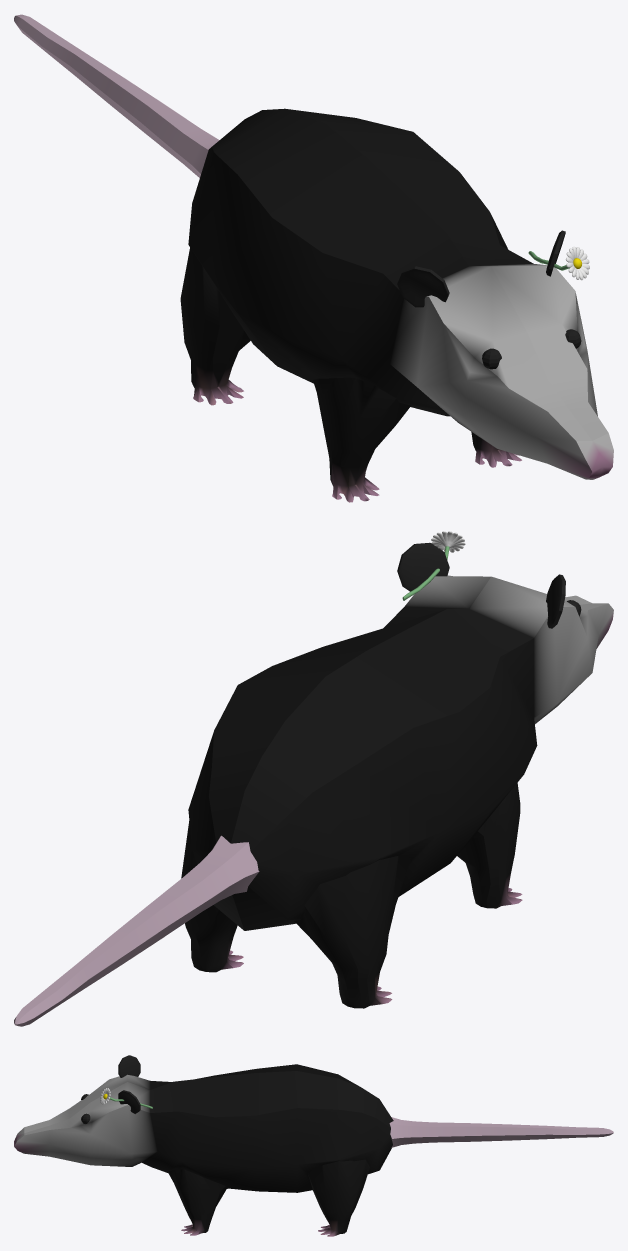
The model's file is OpossumStatic.fbx.
3 views of the same model, one above another, from view 1: azimuth 30°, elevation 25°; view 2: azimuth 150°, elevation 25°; view 3: azimuth 270°, elevation 25° (orthographic). The views are drawn at different scales.
Parts seen in each view (by area): view 1: PossumBody (×2), PossumTail, PossumEar_L; view 2: PossumBody (×2), PossumTail, PossumEar_L (×2); view 3: PossumBody (×2), PossumTail, PossumEar_L (×2).
Boxes of the visible parts, left/top/right/bottom form: PossumBody (×2): left=180, top=108, right=613, bottom=502; PossumTail: left=14, top=14, right=219, bottom=177; PossumEar_L: left=397, top=266, right=449, bottom=307; PossumBody (×2): left=181, top=575, right=613, bottom=1008; PossumTail: left=14, top=835, right=259, bottom=1026; PossumEar_L (×2): left=397, top=542, right=565, bottom=628; PossumBody (×2): left=14, top=1064, right=393, bottom=1236; PossumTail: left=389, top=1117, right=613, bottom=1147; PossumEar_L (×2): left=118, top=1055, right=140, bottom=1113.
Size of the model in its own units: 0.184 by 0.1893 by 0.7272.
